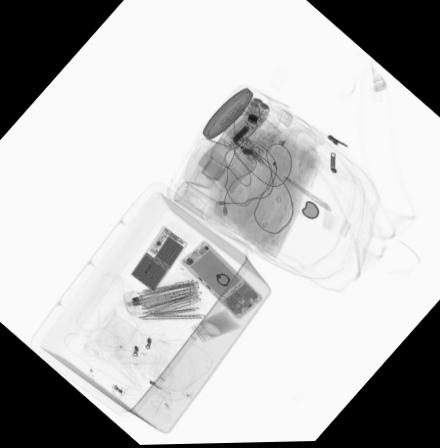Powerbank: (130, 226, 185, 290)
